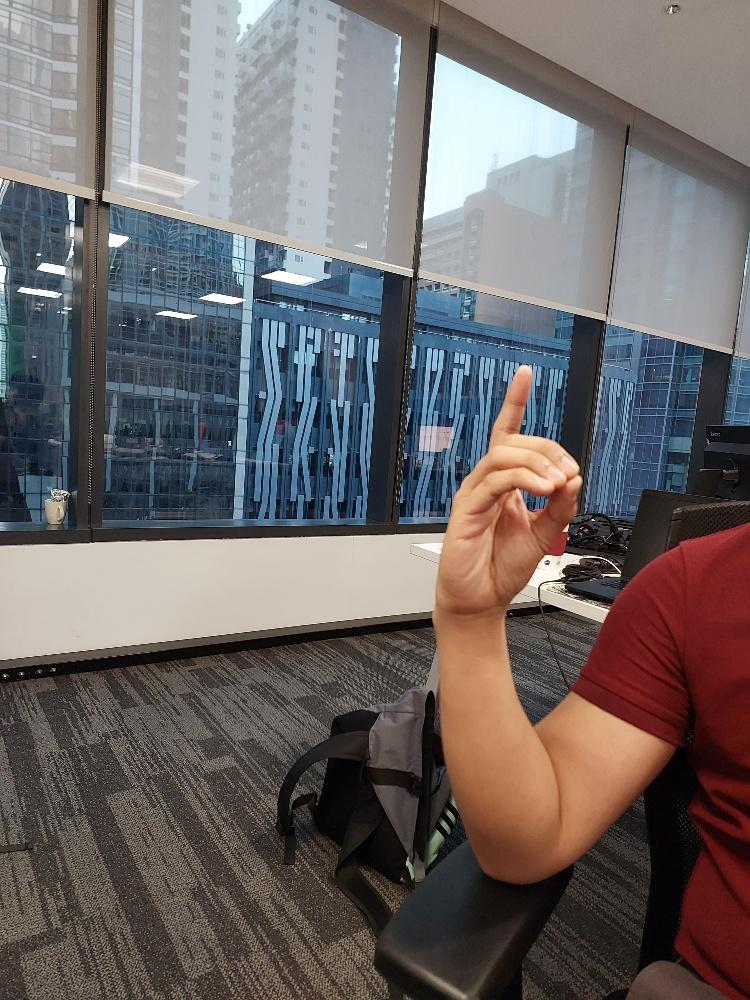d: (433, 361, 586, 619)
